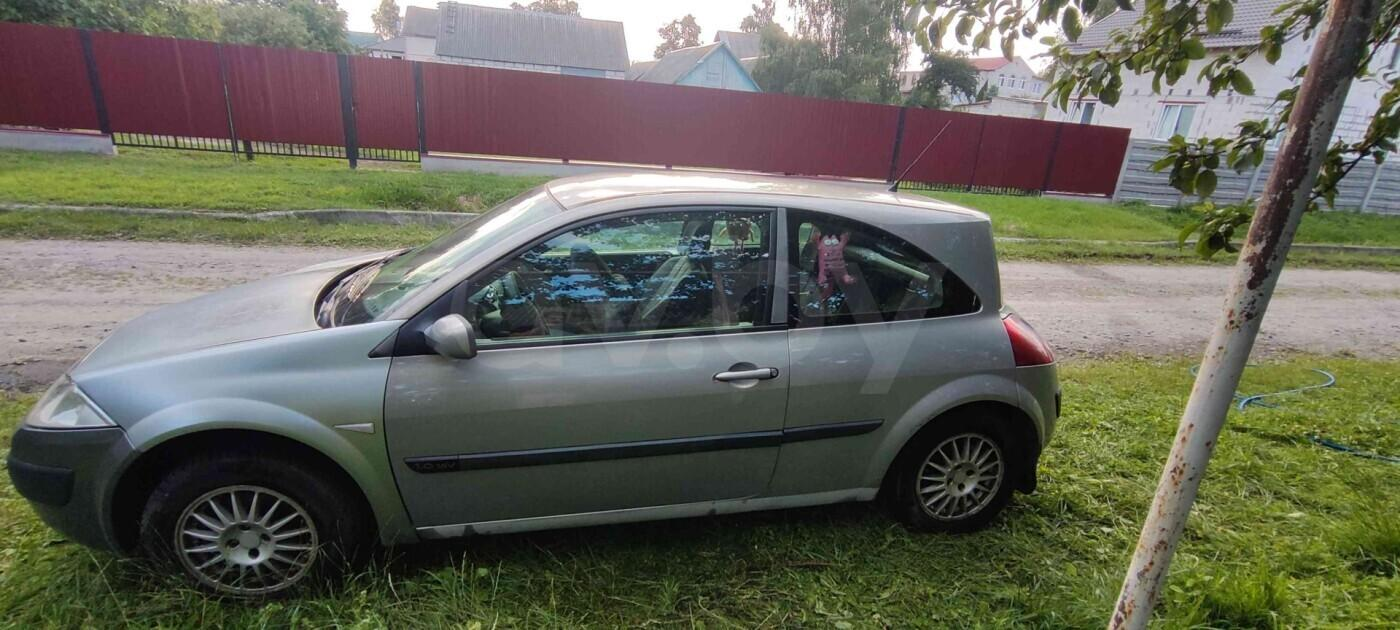Megane_2002-2006: (2, 171, 1067, 595)
